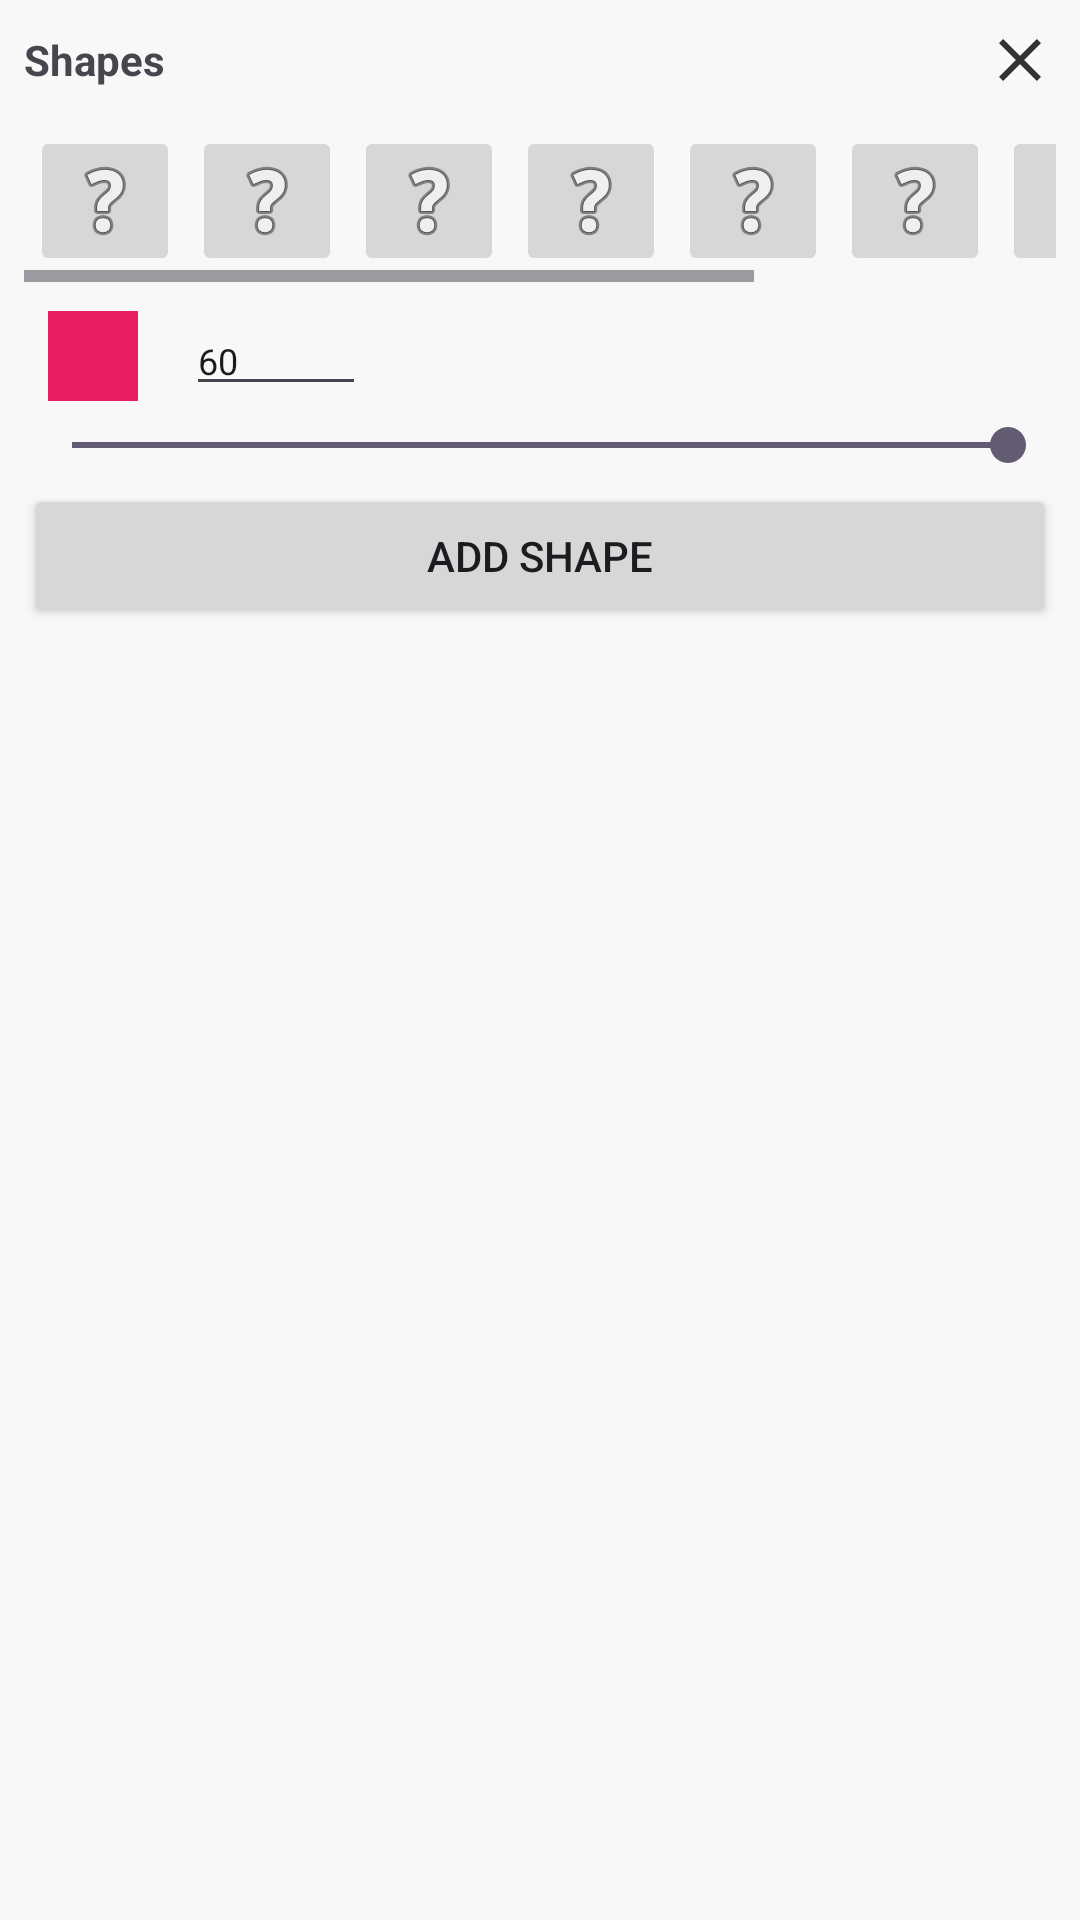

Icon click points for this 1080x1920 phone screenshot, format [x,y]:
close: [1020,60]
